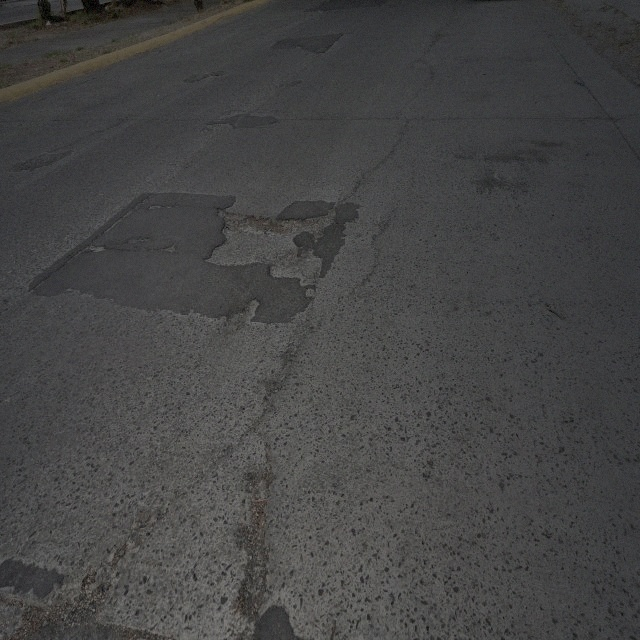pothole: (234, 464, 276, 619), (84, 516, 149, 610), (222, 202, 335, 238), (20, 601, 86, 630), (233, 210, 292, 234)
